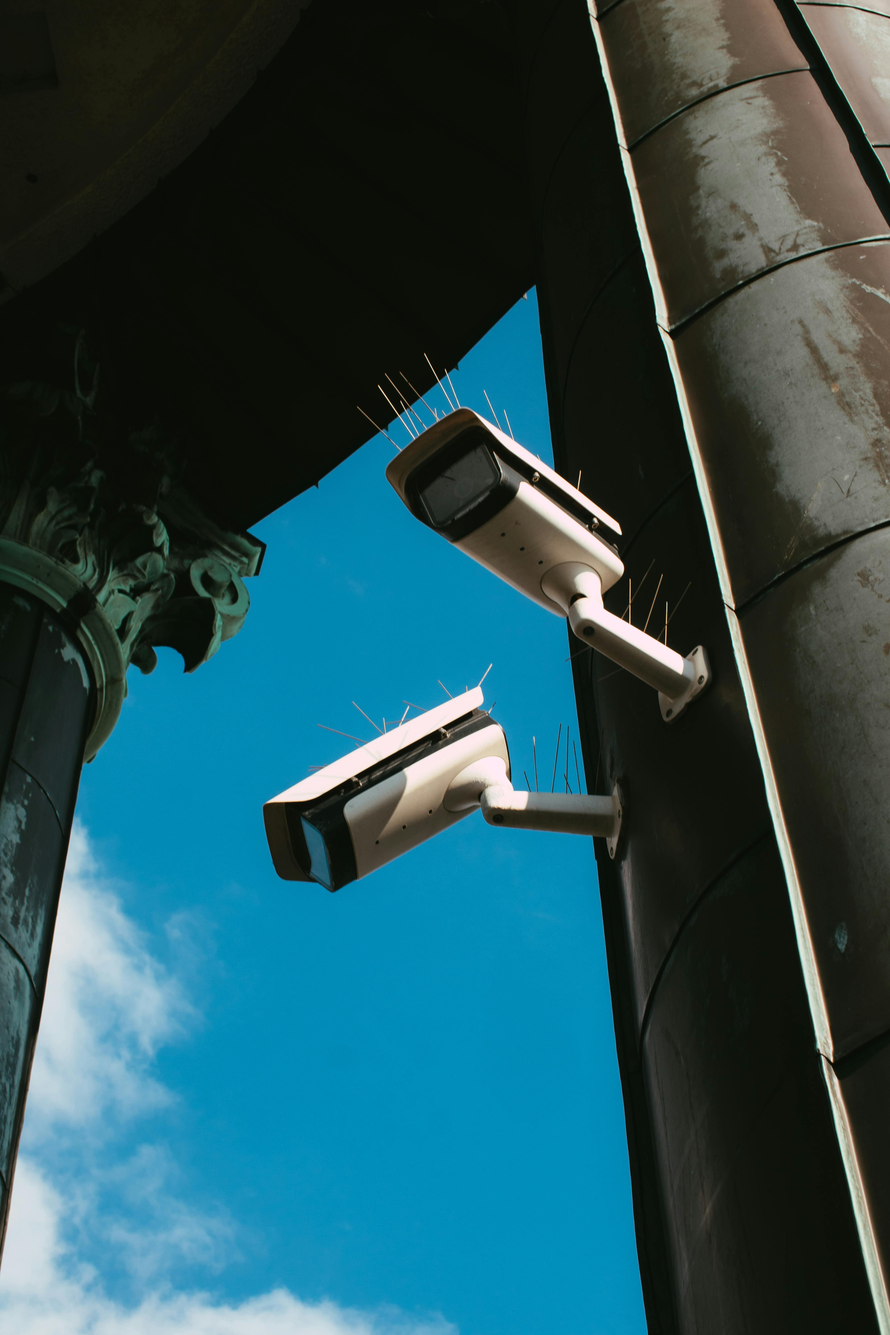camera: (194, 665, 570, 981), (332, 369, 676, 650)
